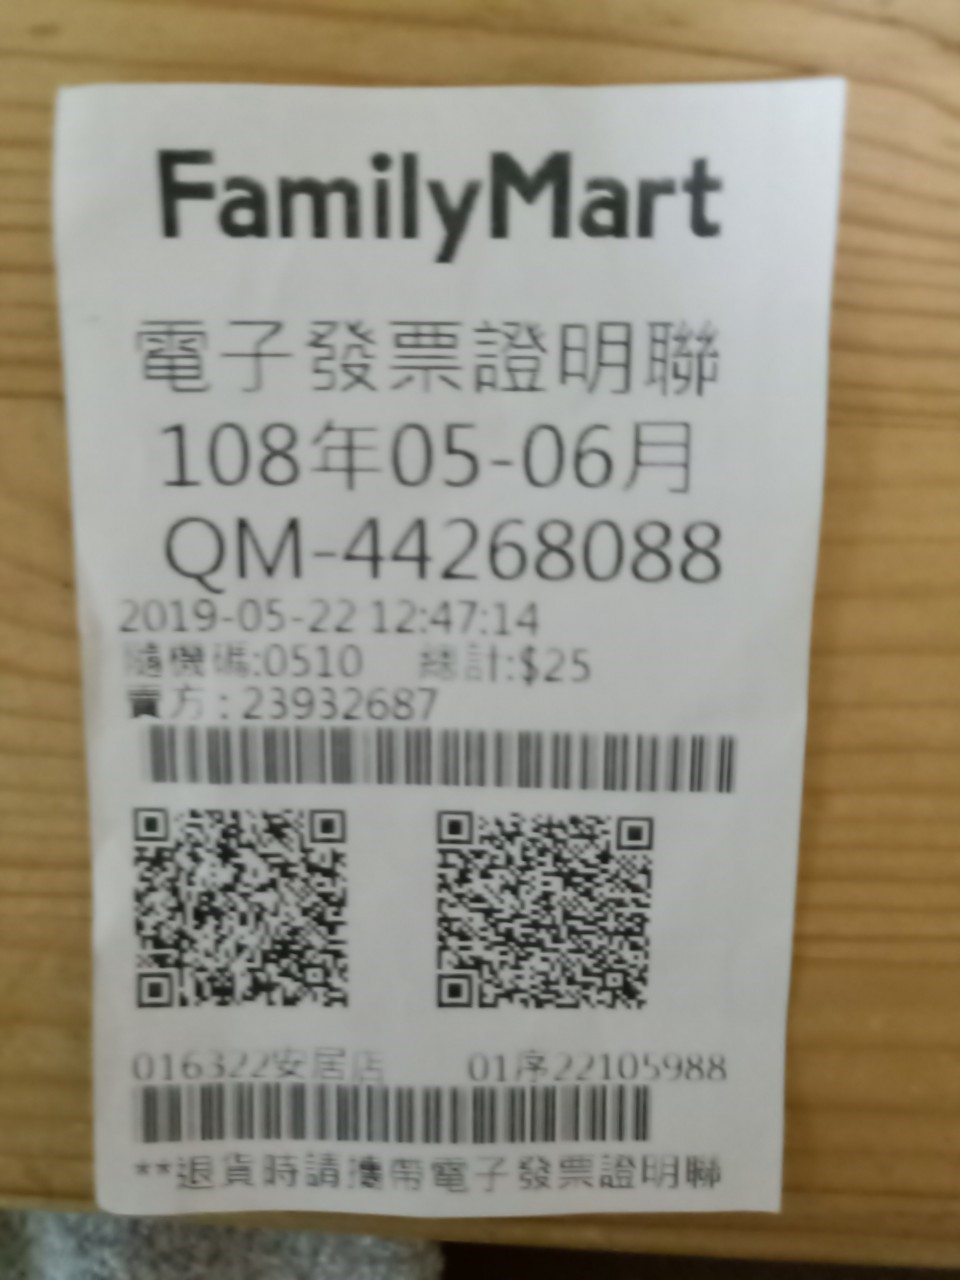Date_New: (159, 411, 698, 502)
Number_New: (340, 512, 723, 588)
